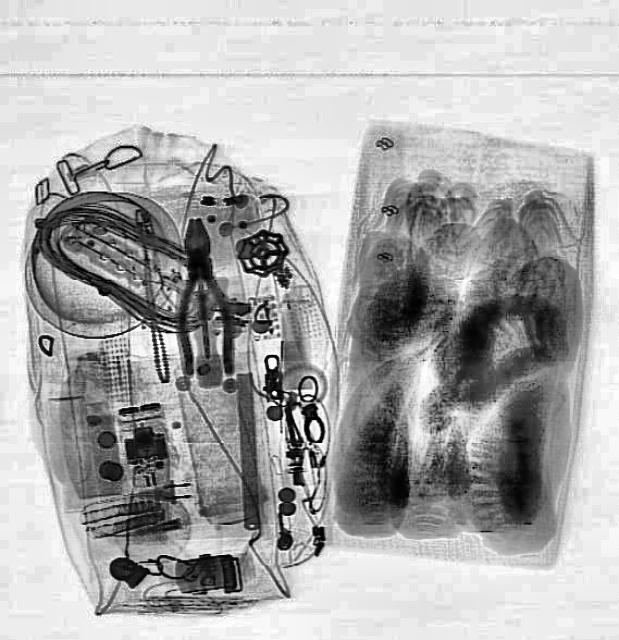Pliers: (166, 213, 234, 375)
